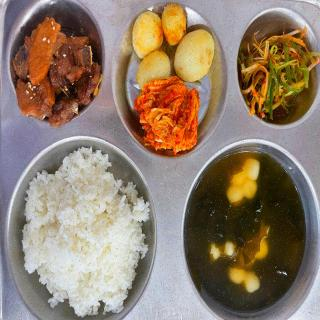Nasi: (13, 143, 151, 310)
